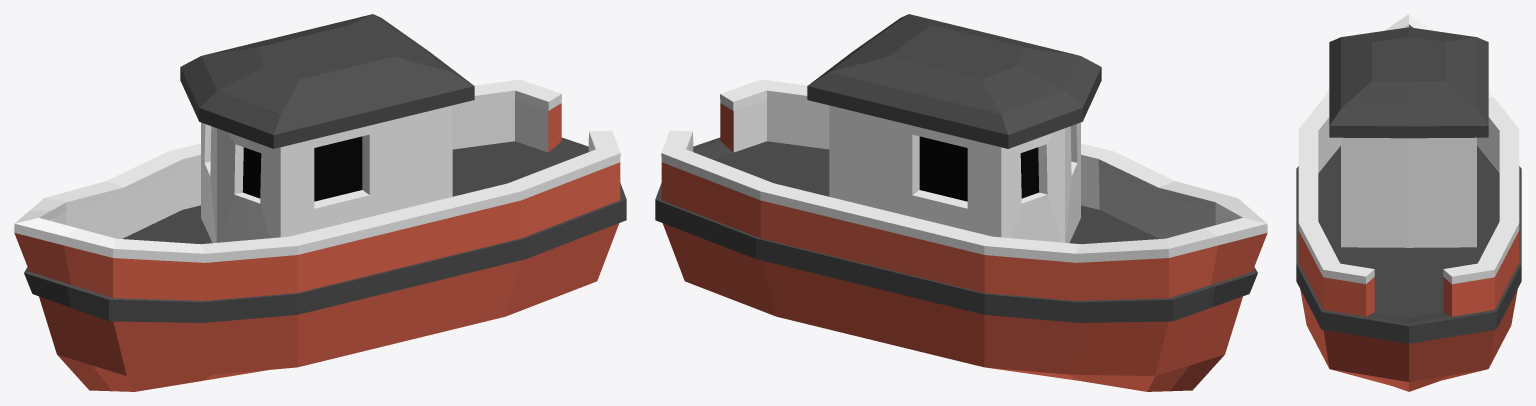
File: SOS_boat_03.fbx
3 views of the same model, side by side, from view 1: azimuth 30°, elevation 25°; view 2: azimuth 150°, elevation 25°; view 3: azimuth 270°, elevation 25° (orthographic). The views are drawn at different scales.
Visible parts, largest first — view 1: Cube.028; view 2: Cube.028; view 3: Cube.028.
Boxes of the visible parts, <box> form: Cube.028: <box>14,14,626,391</box>; Cube.028: <box>655,14,1267,391</box>; Cube.028: <box>1296,14,1521,391</box>.
Bounding box in the file's own units: 532 × 240 × 204.
